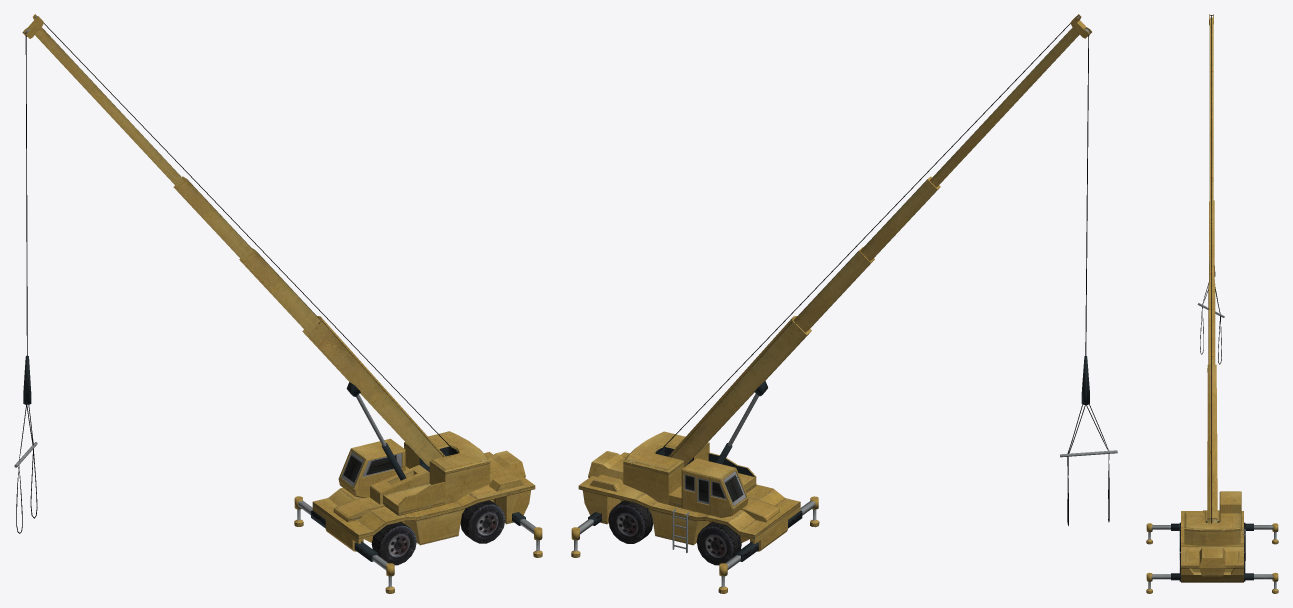
File: Crane.fbx
The picture shows the model from 3 angles, left to right: view 1: azimuth 30°, elevation 25°; view 2: azimuth 150°, elevation 25°; view 3: azimuth 270°, elevation 25°; orthographic projection. The views are drawn at different scales.
Parts seen in each view (by area): view 1: Crane; view 2: Crane; view 3: Crane.
Part boxes in pixels (x1,y1,x2,y2): Crane: (14, 14, 542, 593); Crane: (571, 14, 1117, 593); Crane: (1146, 14, 1278, 593).
Size of the model in its own units: 1930 by 2233 by 629.
